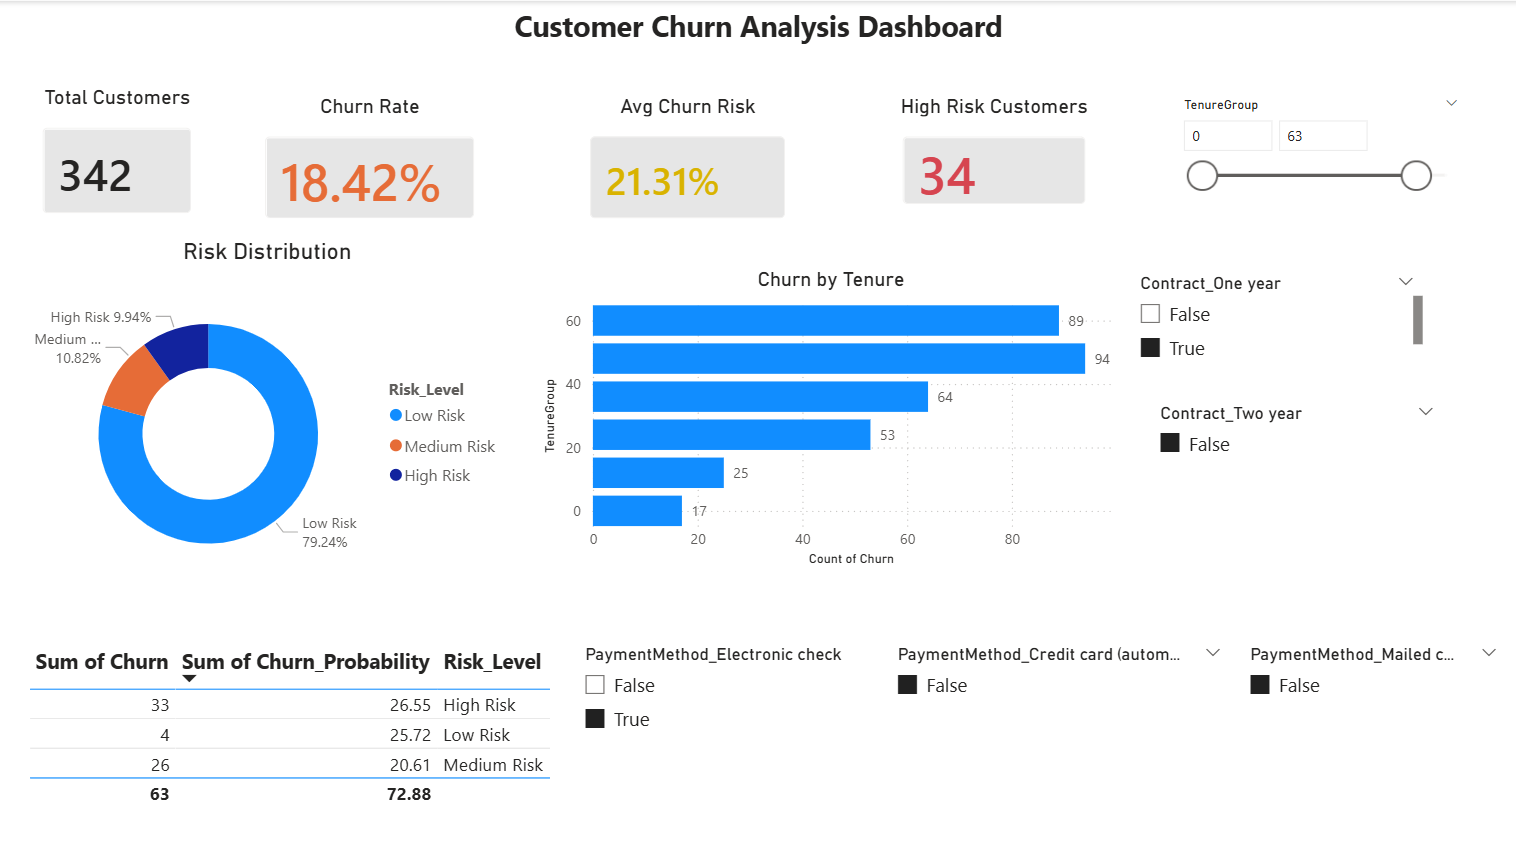

What the dashboard file says about the page in this screenshot:
{"tool":"powerbi","page":{"name":"Page 1","canvas":[1280,720],"ordinal":0},"visuals":[{"type":"cardVisual","title":"Total Customers","fields":{"Data":["CountNonNull(churn_final.tenure)"]},"box":[19.4,70.1,159.7,125.4],"z":0},{"type":"donutChart","title":"Risk Distribution","fields":{"Category":["churn_final.Risk_Level"],"Y":["CountNonNull(churn_final.Risk_Level)"]},"box":[19.4,200,411.9,307.5],"z":1000},{"type":"cardVisual","title":"Avg Churn Risk","fields":{"Data":["Avg(churn_final.Churn_Probability)"]},"box":[479.1,77.6,198.5,122.4],"z":2000},{"type":"cardVisual","title":"High Risk Customers","fields":{"Data":["churn_final.High_Risk_Customers"]},"box":[741.8,77.6,188.1,110.4],"z":3000},{"type":"cardVisual","title":"Churn Rate","fields":{"Data":["churn_final.Churn_Rate"]},"box":[206,77.6,210.4,122.4],"z":4000},{"type":"clusteredBarChart","title":"Churn by Tenure","fields":{"Category":["churn_final.TenureGroup"],"Y":["CountNonNull(churn_final.Churn)"]},"box":[452.2,223.9,494,256.7],"z":5000},{"type":"tableEx","fields":{"Values":["Sum(churn_final.Churn)","Sum(churn_final.Churn_Probability)","churn_final.Risk_Level"]},"box":[19.4,535.8,459.7,150.7],"z":6000},{"type":"slicer","fields":{"Values":["churn_final.TenureGroup"]},"box":[983.6,76.1,255.2,103],"z":7000},{"type":"slicer","fields":{"Values":["churn_final.Contract_One year"]},"box":[946.3,223.9,255.2,82.1],"z":8000},{"type":"slicer","fields":{"Values":["churn_final.Contract_Two year"]},"box":[962.7,332.8,255.2,85.1],"z":9000},{"type":"slicer","fields":{"Values":["churn_final.PaymentMethod_Credit card (automatic)"]},"box":[741.8,535.8,297,97],"z":10000},{"type":"slicer","fields":{"Values":["churn_final.PaymentMethod_Electronic check"]},"box":[479.1,535.8,255.2,100],"z":11000},{"type":"slicer","fields":{"Values":["churn_final.PaymentMethod_Mailed check"]},"box":[1038.8,535.8,232.8,74.6],"z":12000},{"type":"textbox","box":[416.4,0,443.3,53.7],"z":12001}]}

Visuals, with their boxes in screenshot pixels (x1, y1, x2, y2), scaled from the page's 1280x720 canvas onto the 1516x855 screenshot:
"Total Customers" cardVisual: (x1=23, y1=83, x2=212, y2=232)
"Risk Distribution" donutChart: (x1=23, y1=238, x2=511, y2=603)
"Avg Churn Risk" cardVisual: (x1=567, y1=92, x2=803, y2=238)
"High Risk Customers" cardVisual: (x1=879, y1=92, x2=1101, y2=223)
"Churn Rate" cardVisual: (x1=244, y1=92, x2=493, y2=238)
"Churn by Tenure" clusteredBarChart: (x1=536, y1=266, x2=1121, y2=571)
tableEx - Sum(churn_final.Churn) x Sum(churn_final.Churn_Probability): (x1=23, y1=636, x2=567, y2=815)
slicer - churn_final.TenureGroup: (x1=1165, y1=90, x2=1467, y2=213)
slicer - churn_final.Contract_One year: (x1=1121, y1=266, x2=1423, y2=363)
slicer - churn_final.Contract_Two year: (x1=1140, y1=395, x2=1442, y2=496)
slicer - churn_final.PaymentMethod_Credit card (automatic): (x1=879, y1=636, x2=1230, y2=751)
slicer - churn_final.PaymentMethod_Electronic check: (x1=567, y1=636, x2=870, y2=755)
slicer - churn_final.PaymentMethod_Mailed check: (x1=1230, y1=636, x2=1506, y2=725)
textbox: (x1=493, y1=0, x2=1018, y2=64)
